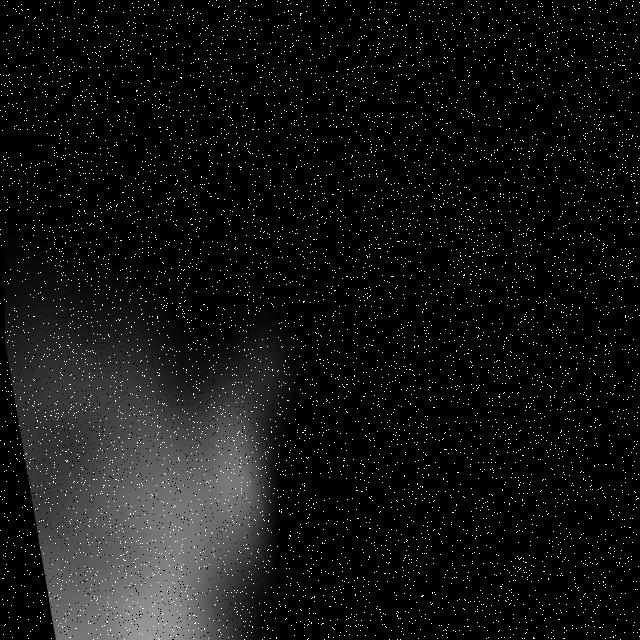person: (2, 92, 361, 640)
